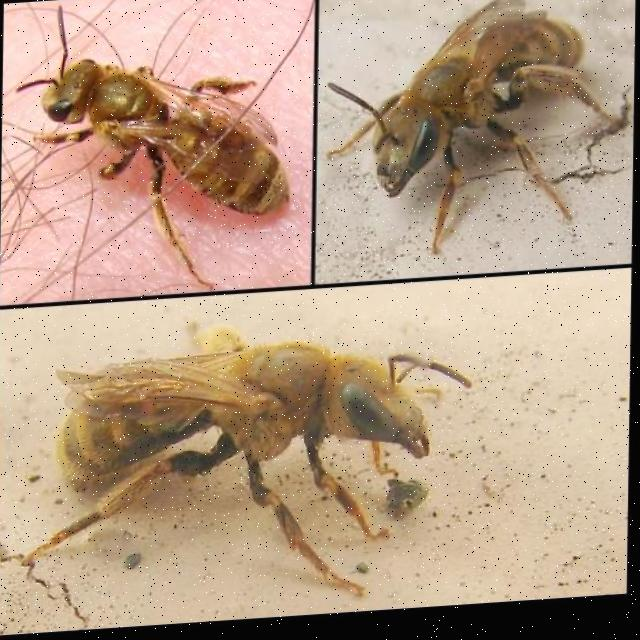Meliponula: (29, 312, 485, 598), (21, 0, 309, 312), (321, 0, 626, 282)
